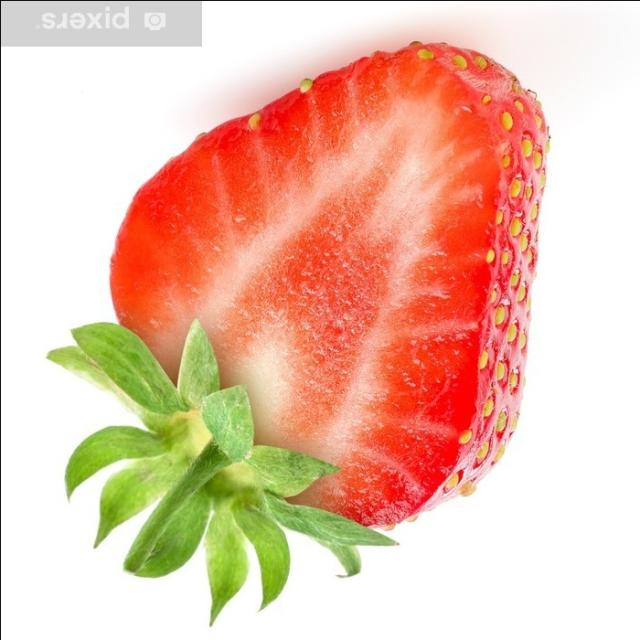strawberry: (18, 25, 568, 626)
